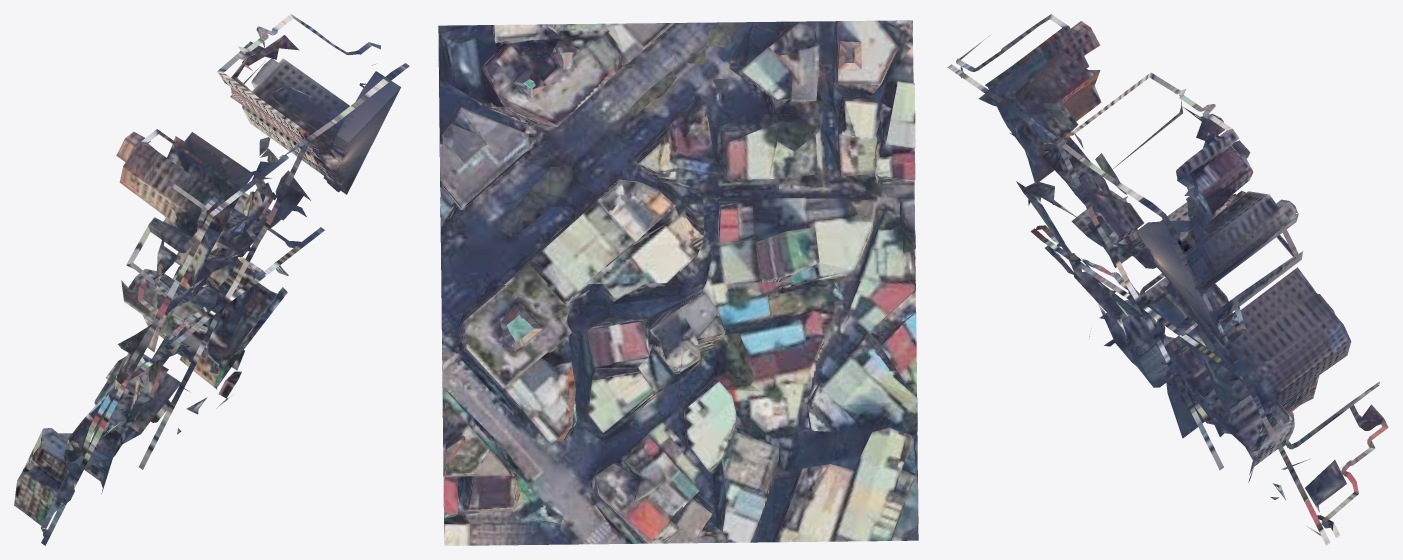
3 renders of one model, left to right at view 1: azimuth 30°, elevation 25°; view 2: azimuth 150°, elevation 25°; view 3: azimuth 270°, elevation 25°, orthographic. The views are drawn at different scales.
Bounding box in the file's own units: 156 × 157 × 148.
2 materials, 2 textured.
